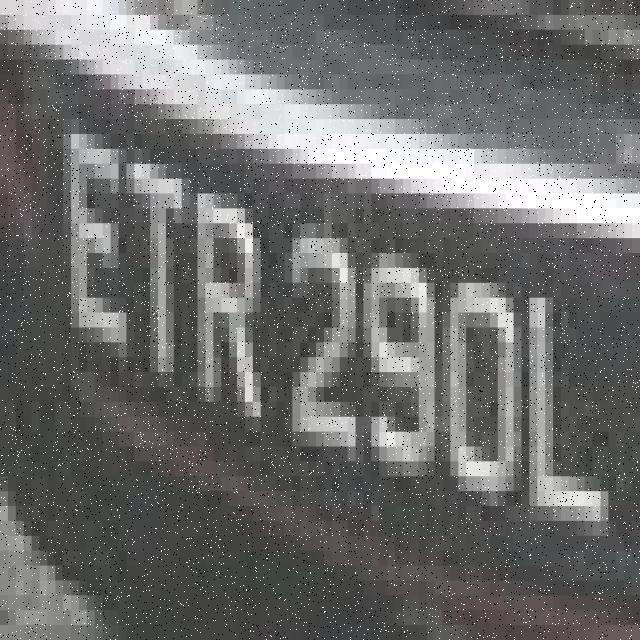LicensePlate: (2, 14, 640, 605)
